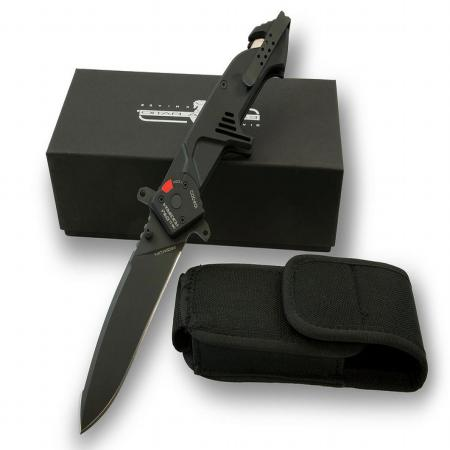long weapon: (74, 198, 192, 441)
